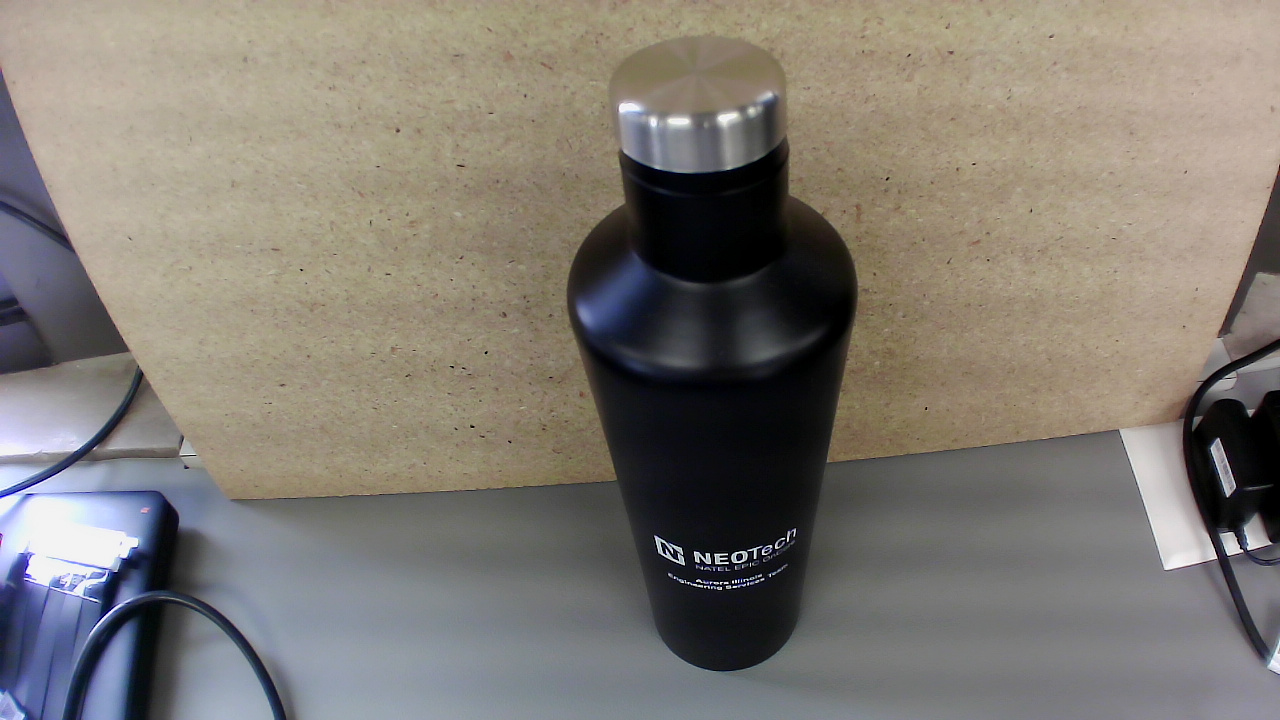neobottle: (563, 29, 862, 678)
